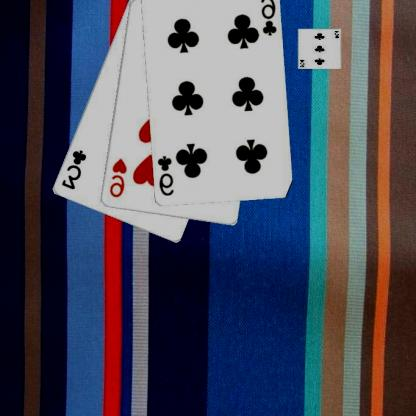3C: (60, 148, 89, 191)
6C: (156, 154, 176, 198), (260, 0, 279, 38)
9H: (108, 156, 129, 199)
